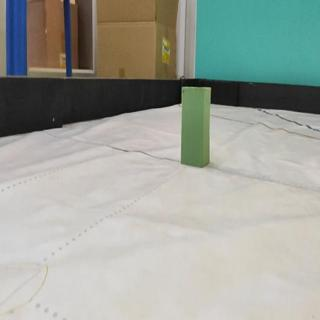greenbox: (181, 85, 210, 167)
